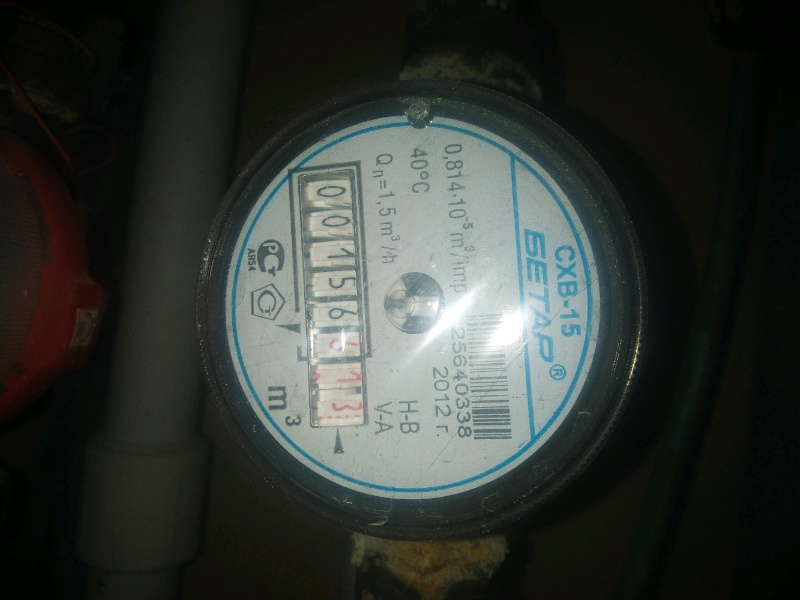meter: (314, 171, 371, 425)
